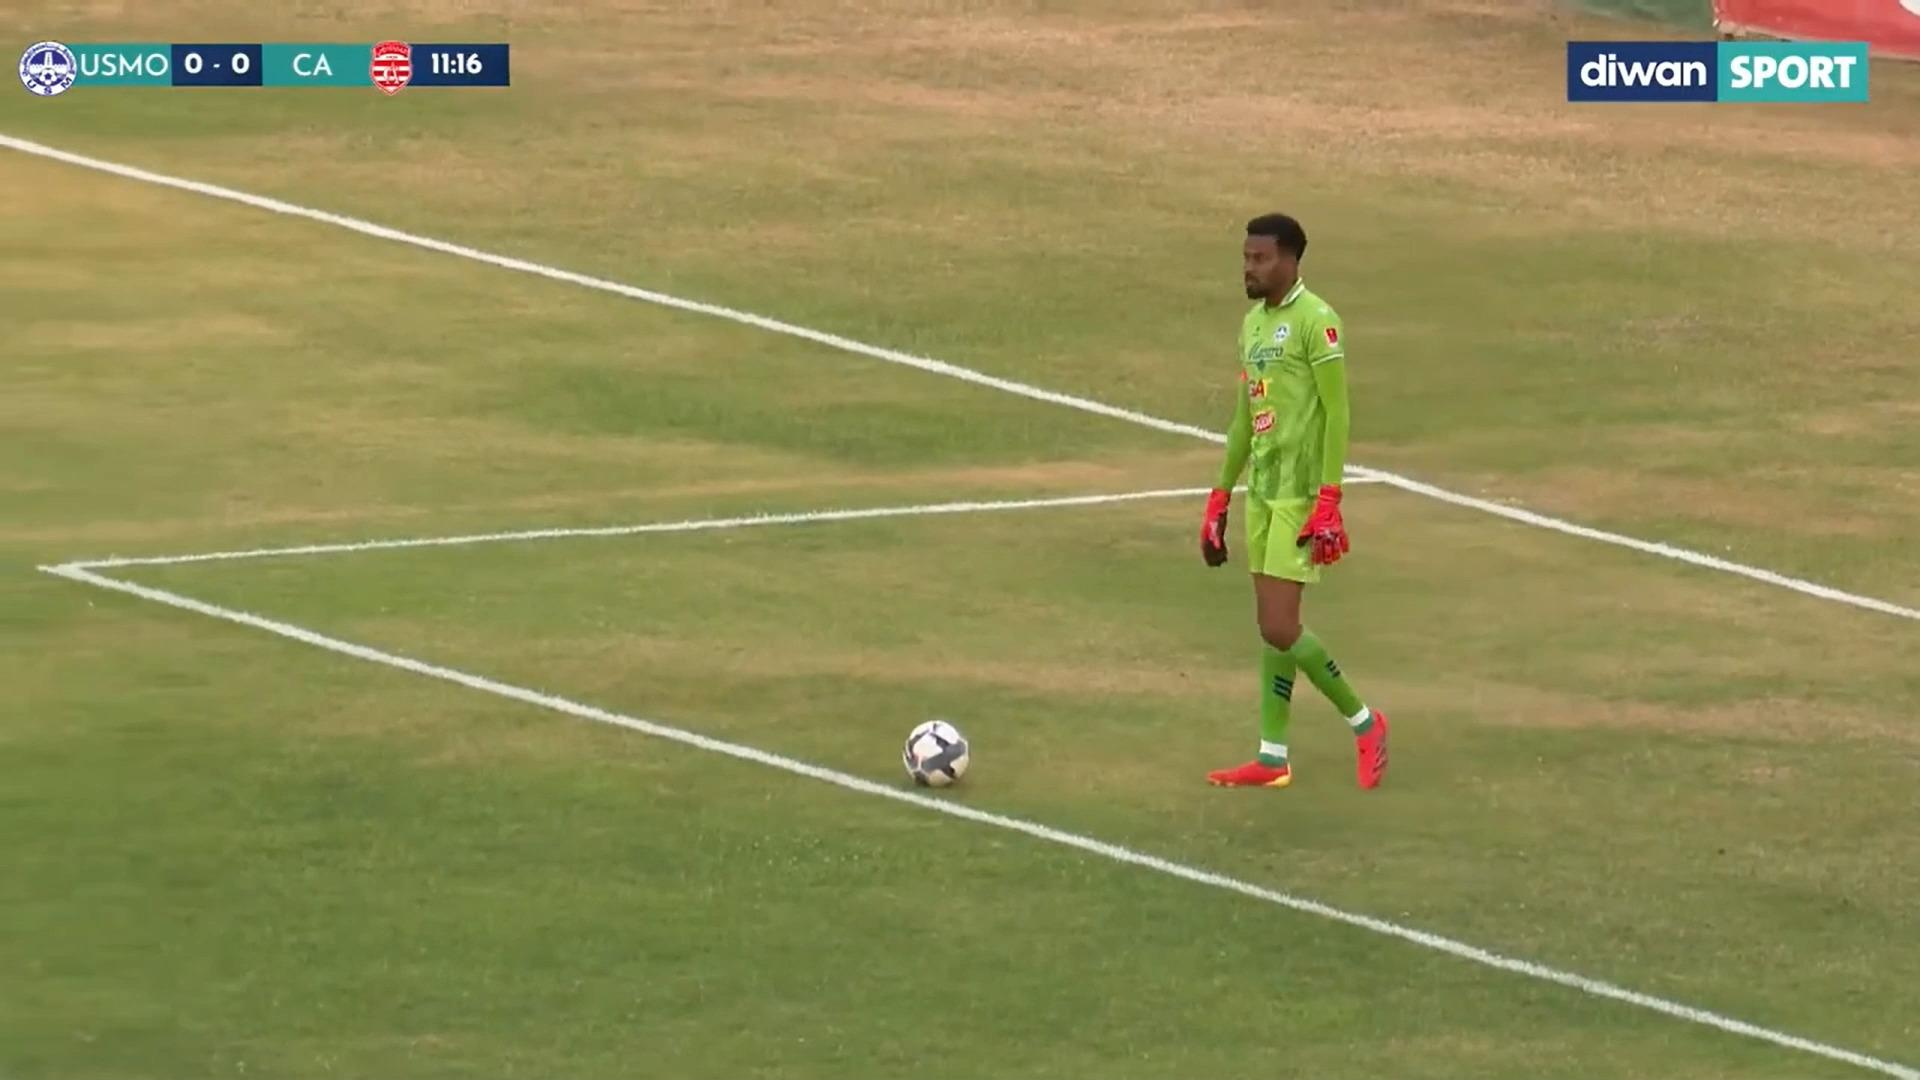ball: (878, 686, 1004, 831)
goalkeeper: (1160, 170, 1464, 868)
